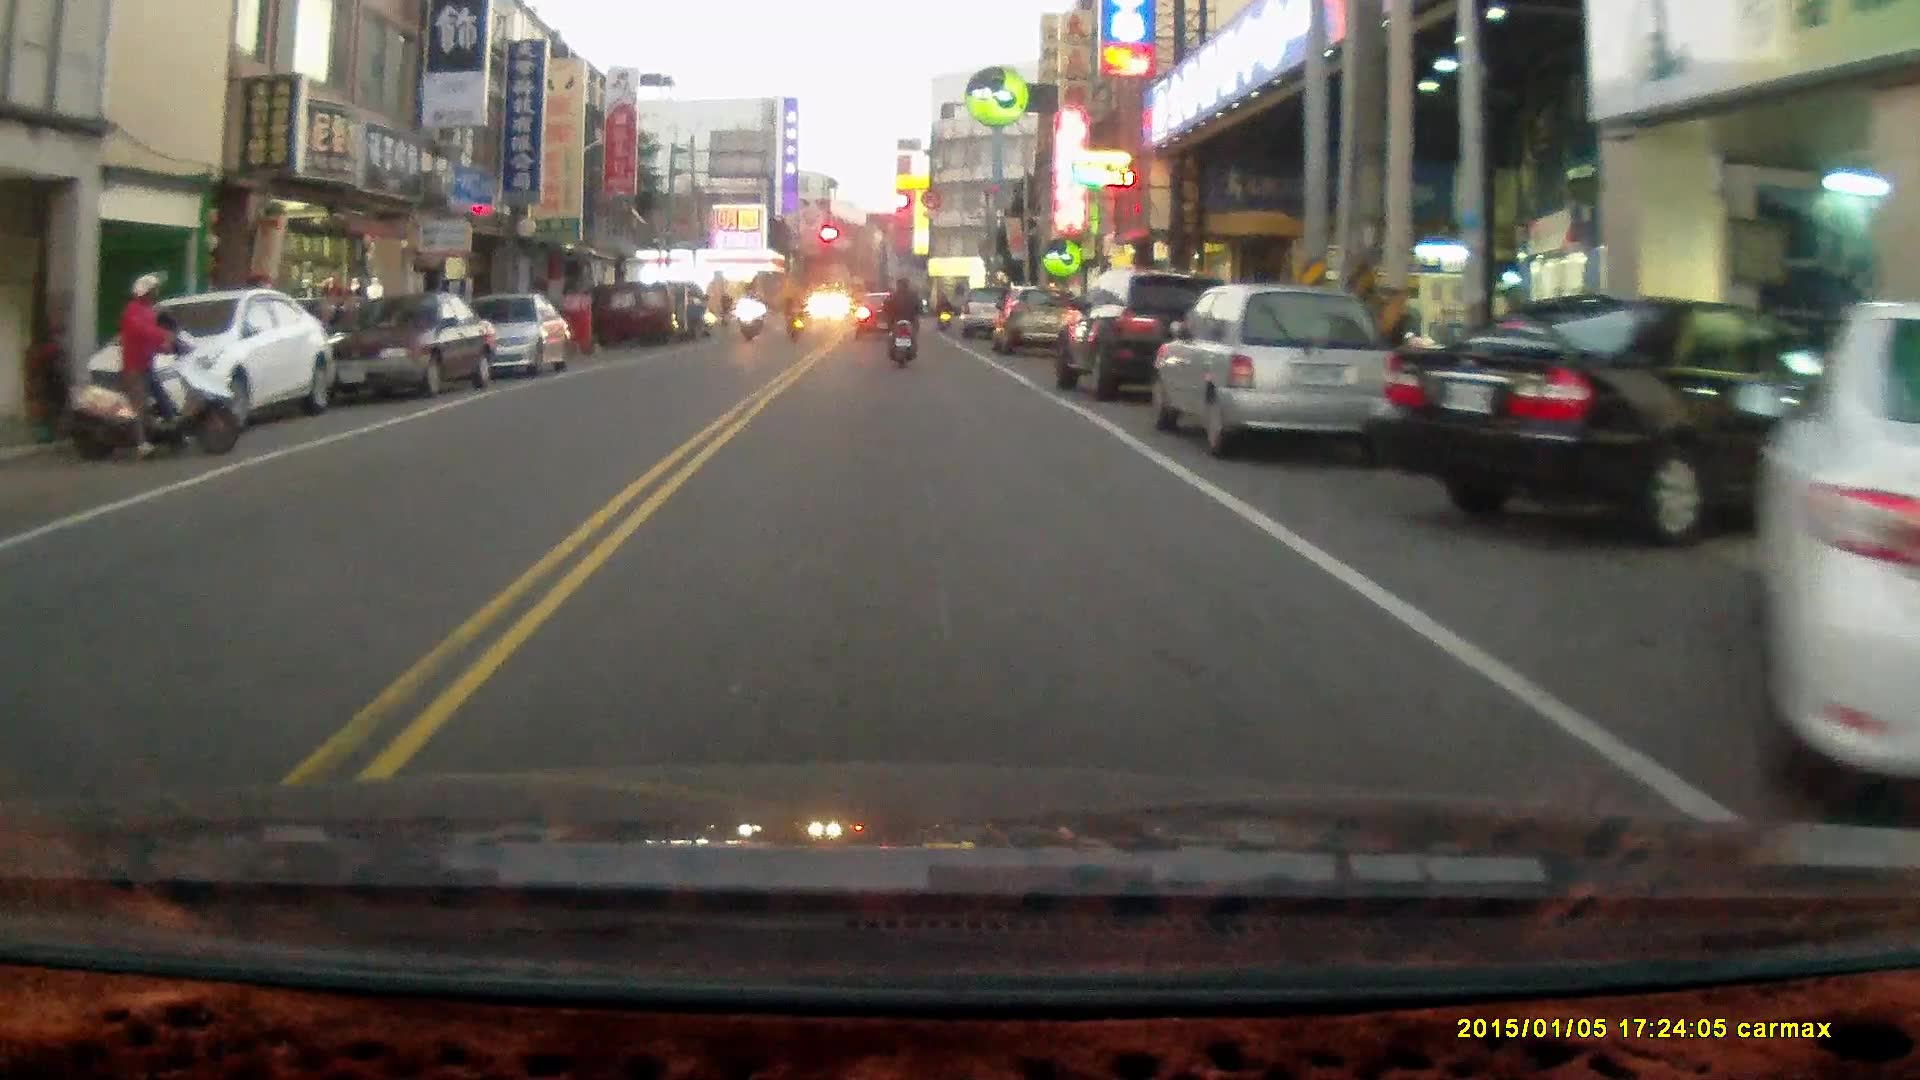rider: (62, 269, 245, 462), (882, 271, 923, 370), (780, 286, 807, 346), (736, 290, 760, 343), (714, 286, 734, 339), (931, 291, 953, 334)
vehicle: (1376, 297, 1852, 558), (1747, 367, 1920, 778), (1149, 290, 1391, 459), (65, 288, 340, 435), (1052, 267, 1260, 404), (309, 297, 491, 407), (452, 293, 572, 381), (998, 289, 1072, 362), (593, 286, 674, 350)
